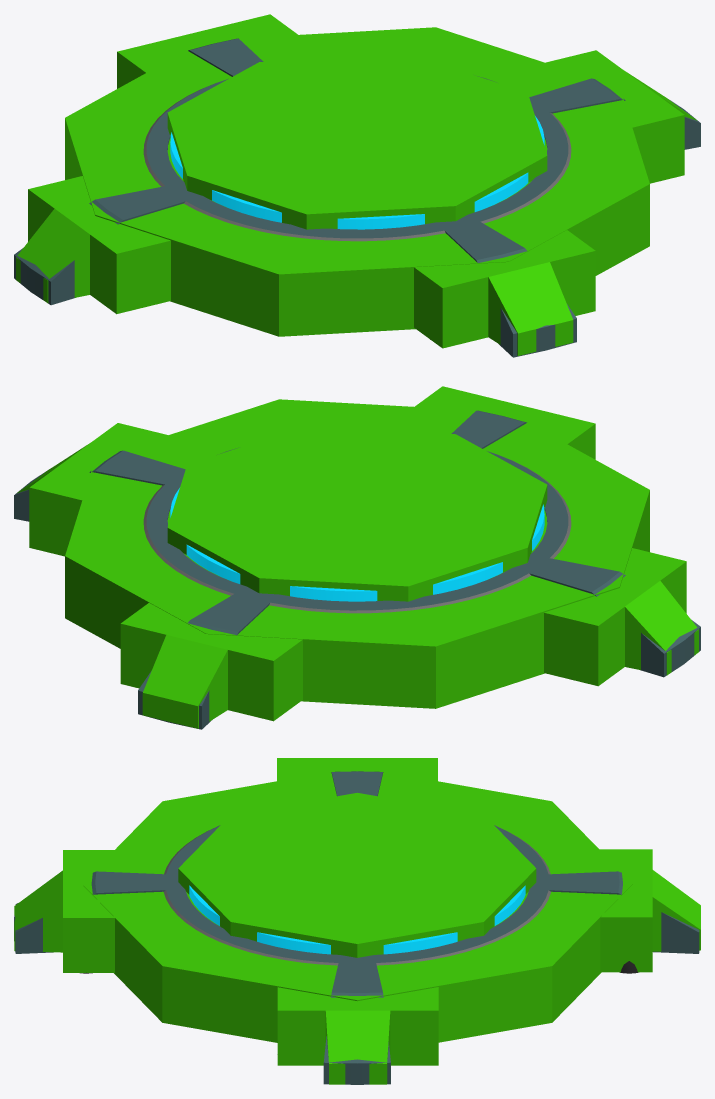
Rendered from Pressure Plate.fbx.
The picture shows the model from 3 angles, top to bottom: view 1: azimuth 30°, elevation 25°; view 2: azimuth 150°, elevation 25°; view 3: azimuth 270°, elevation 25°; orthographic projection. The views are drawn at different scales.
Visible parts, largest first — view 1: COL, Pressure Plate; view 2: COL, Pressure Plate; view 3: COL, Pressure Plate.
Part boxes in pixels (bbox=[...]): COL: bbox=[16, 14, 697, 355]; Pressure Plate: bbox=[14, 38, 700, 357]; COL: bbox=[17, 386, 698, 728]; Pressure Plate: bbox=[14, 410, 700, 729]; COL: bbox=[14, 758, 700, 1084]; Pressure Plate: bbox=[14, 771, 699, 1084].
Bounding box in the file's own units: 360 × 41.69 × 360.
